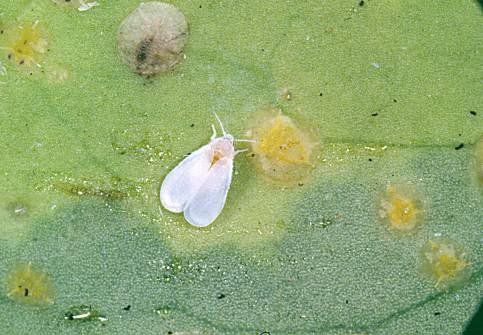whitefly: (158, 109, 259, 228)
